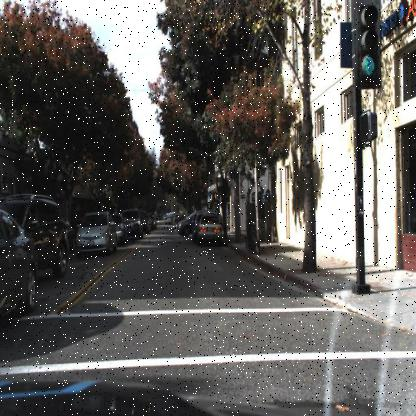car: (15, 192, 67, 280), (0, 204, 39, 318), (72, 208, 116, 261), (193, 210, 225, 250), (122, 205, 144, 241), (113, 208, 130, 250), (175, 210, 200, 237)
trafficLight-Green: (357, 2, 380, 87)
